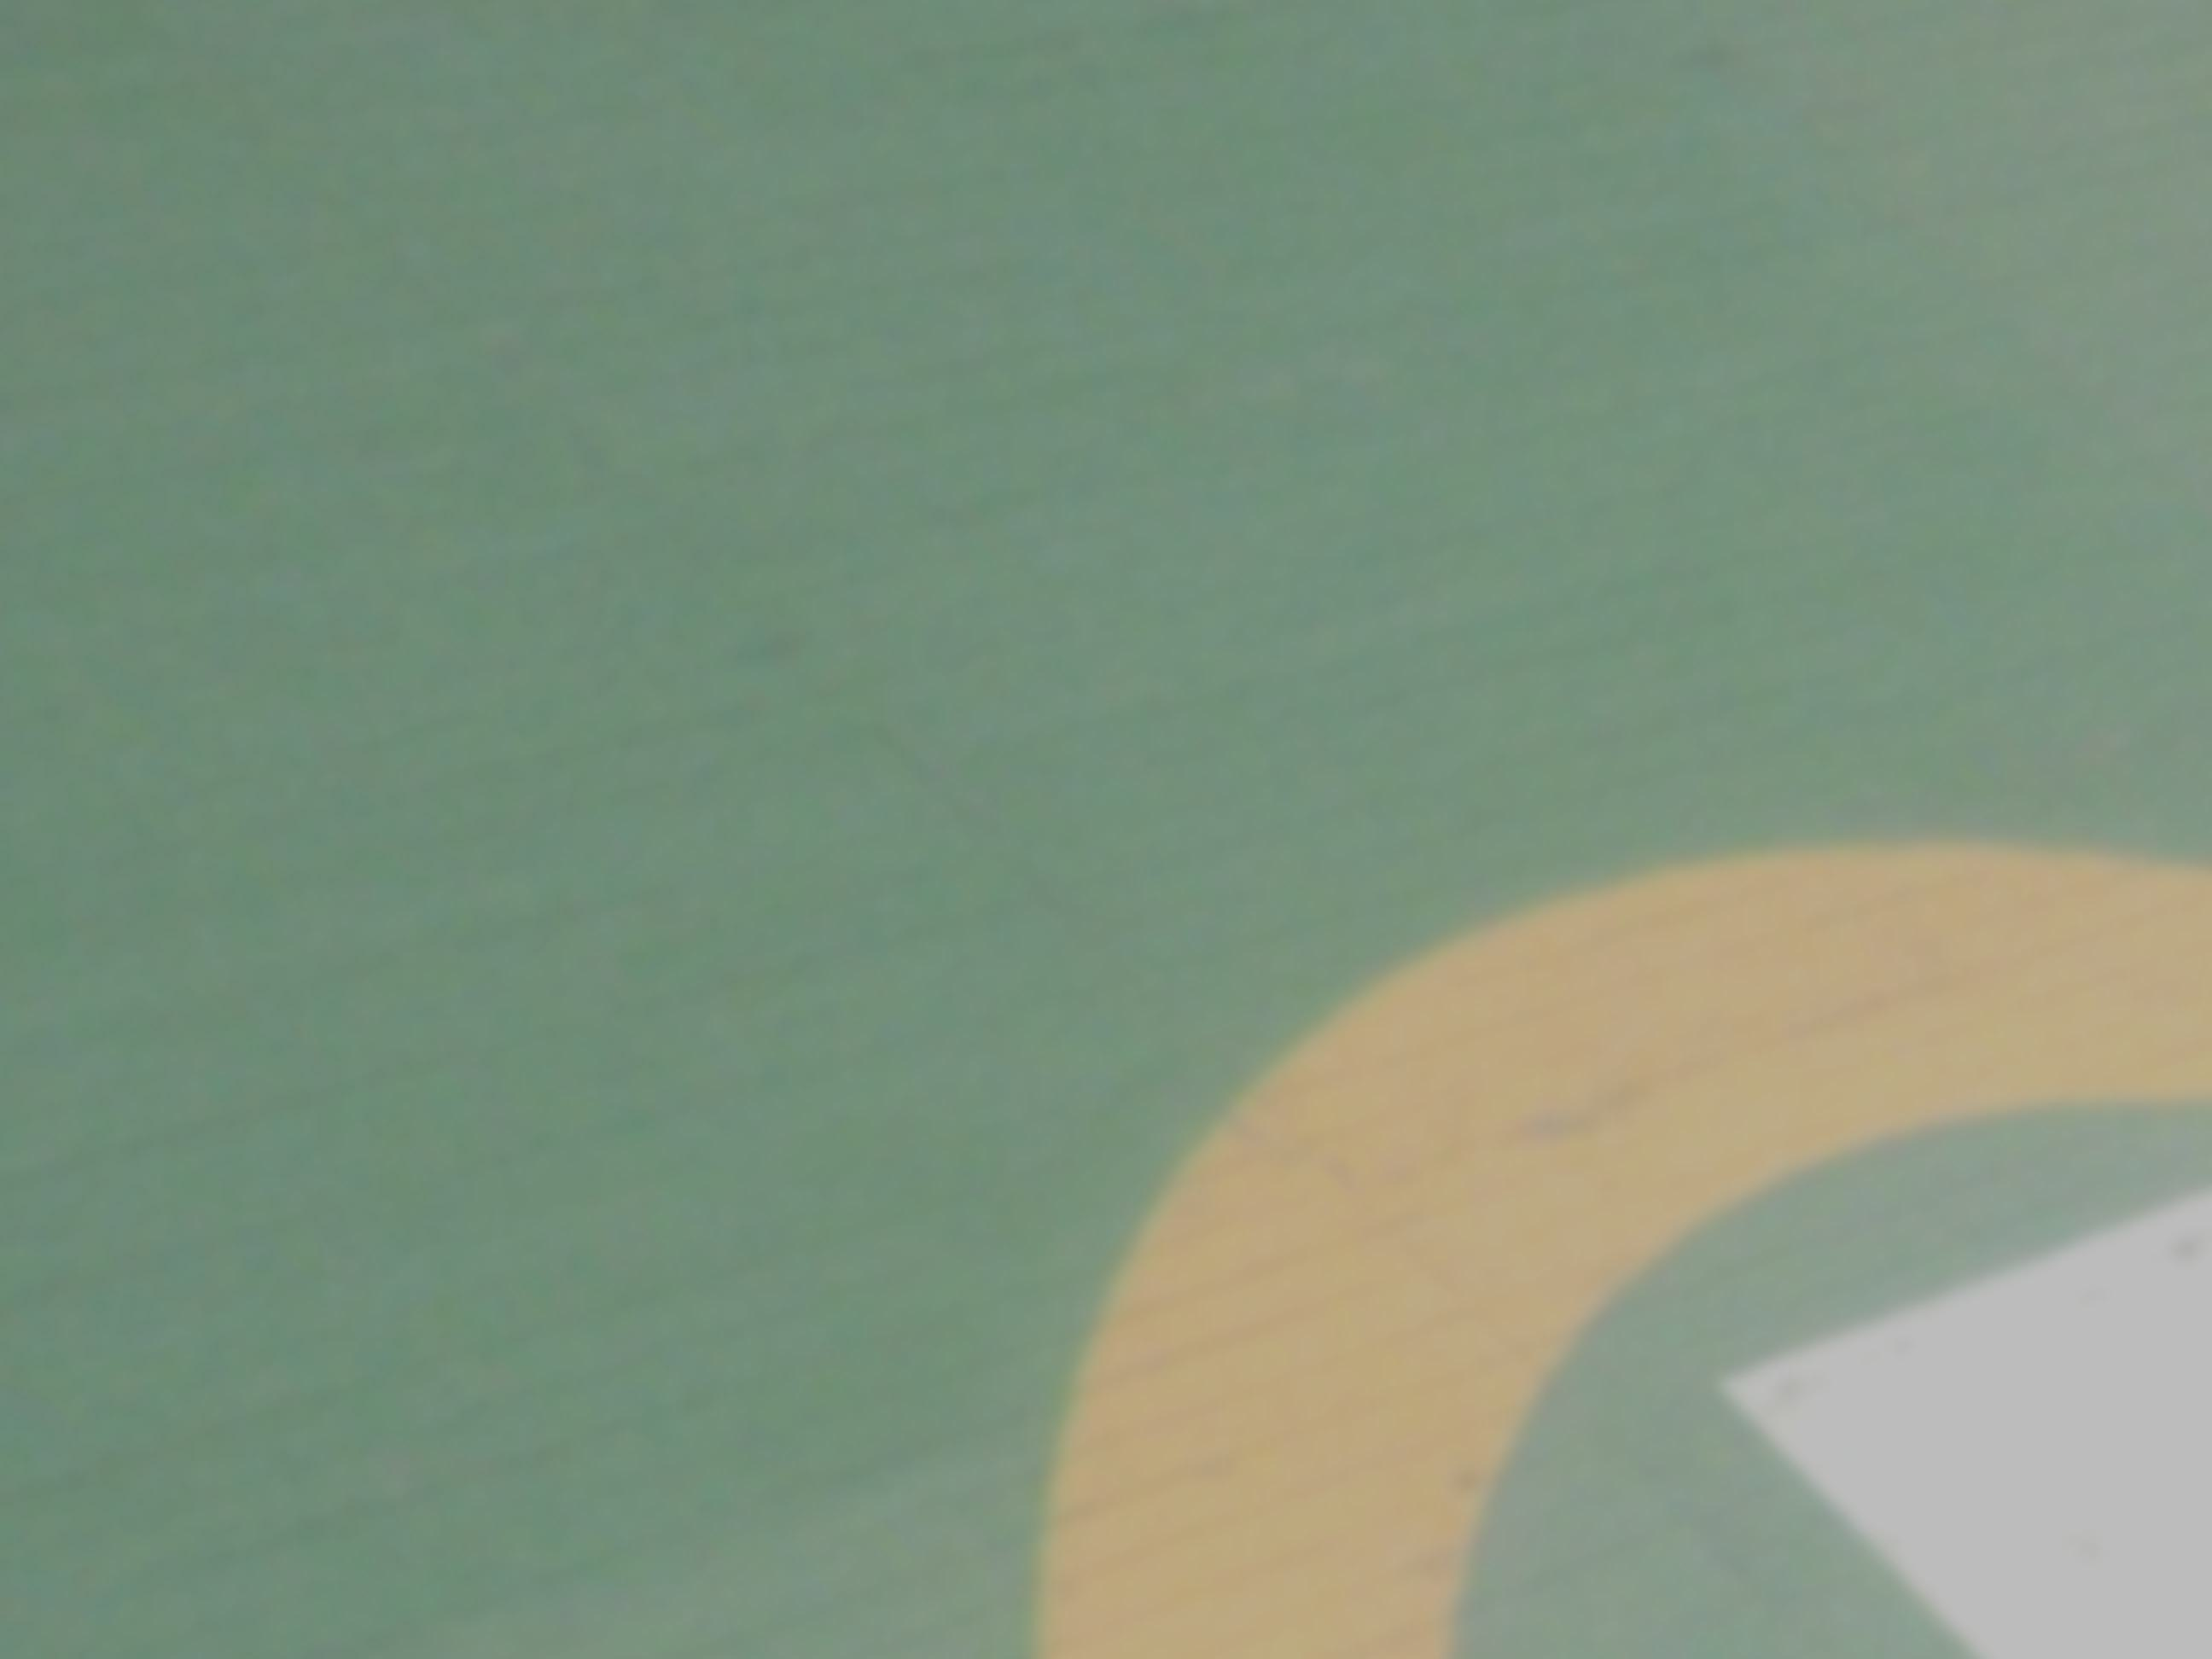Apron: (1010, 786, 2212, 1659)
